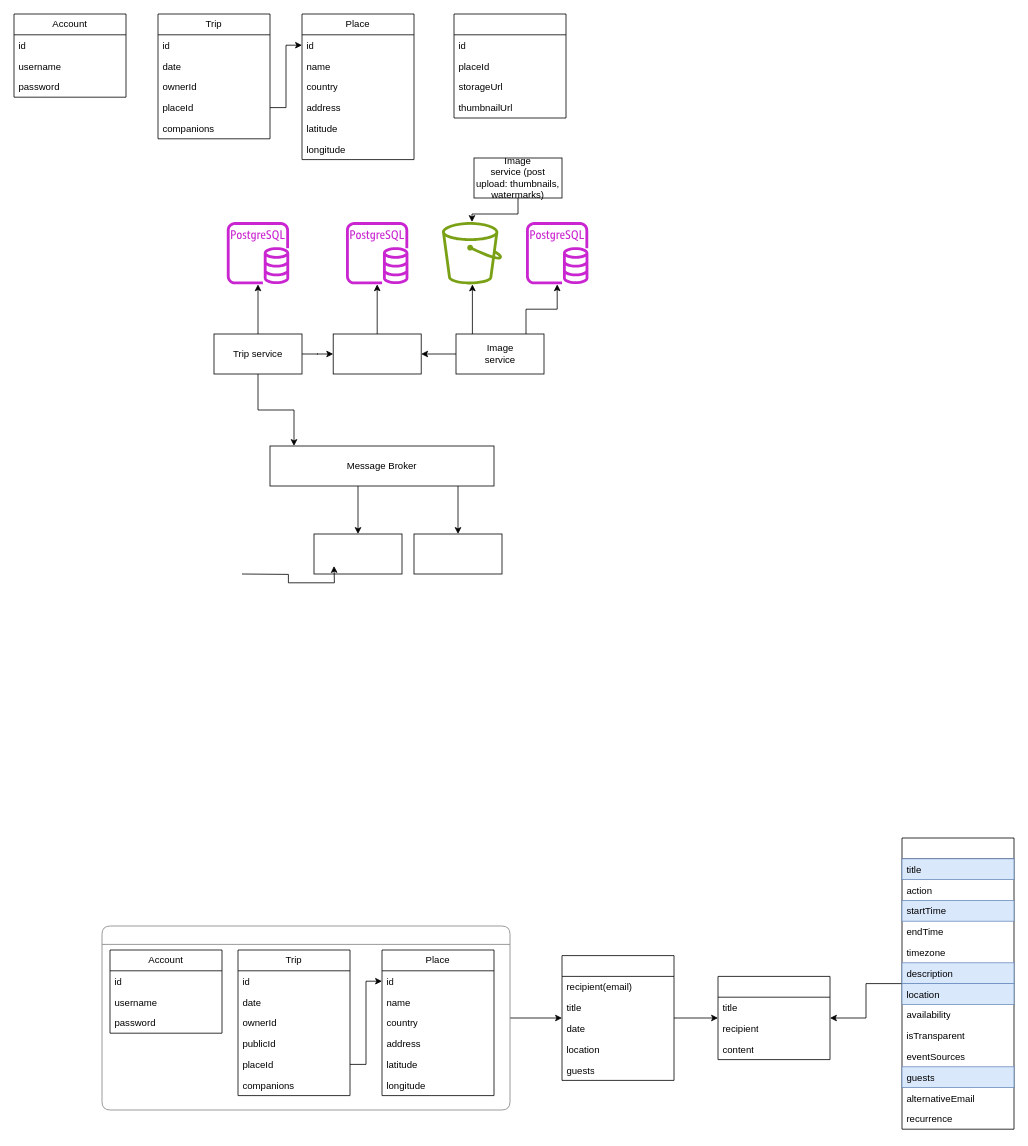
The diagram is 1028 pixels wide and 1146 high, and some of its shapes have lost their labels. Here are the shapes that lost their labels. From the top down, the box of each, then its label:
(453, 13, 566, 118): Image
(332, 333, 421, 374): Auth service
(313, 533, 402, 574): Notification service
(413, 533, 502, 574): Email service
(901, 837, 1014, 1129): GoogleCalendarEvent
(101, 925, 510, 1110): User service
(561, 955, 674, 1080): Broker message
(717, 976, 830, 1060): EmailMessage
